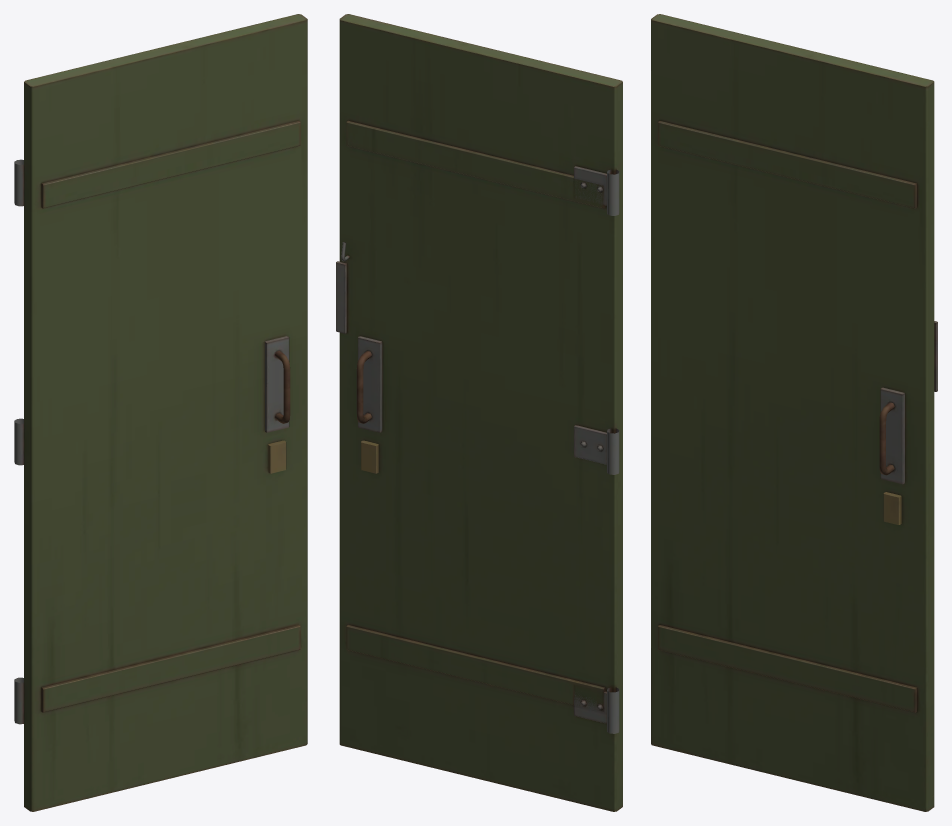
File: door_steel_r.glb
3 views of the same model, side by side, from view 1: azimuth 30°, elevation 25°; view 2: azimuth 150°, elevation 25°; view 3: azimuth 330°, elevation 25° (orthographic).
Visible parts, largest first — view 1: door_steel_r; view 2: door_steel_r; view 3: door_steel_r.
Part boxes in pixels (x1,y1,x2,y2): door_steel_r: (14,14,307,811); door_steel_r: (336,14,622,811); door_steel_r: (651,14,937,811).
Bounding box in the file's own units: 0.86 × 2.1 × 0.1803.
1 material, 1 textured.
